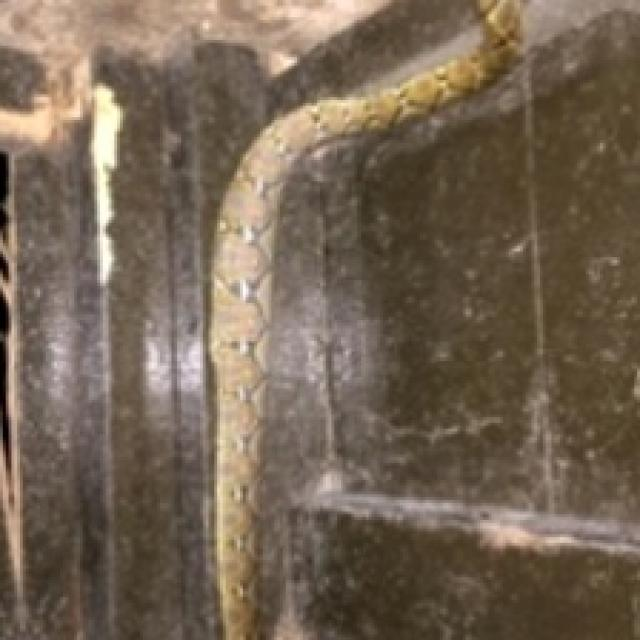reticulated python: (211, 0, 520, 637)
